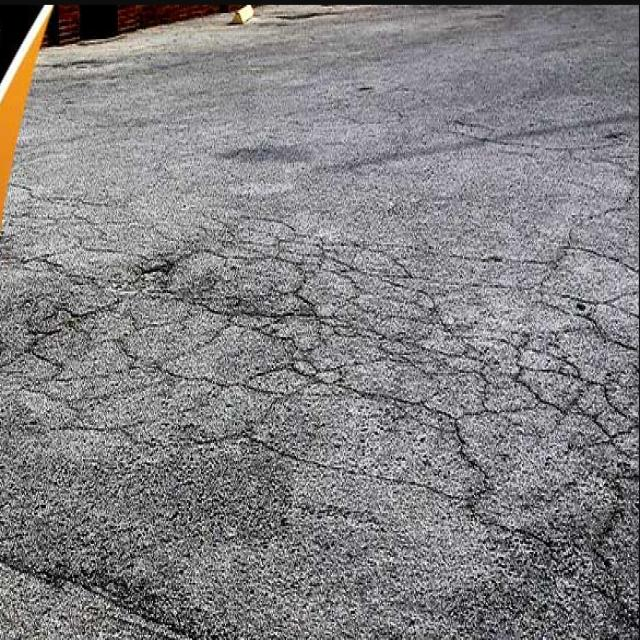Drain Hole: (57, 226, 640, 507)
